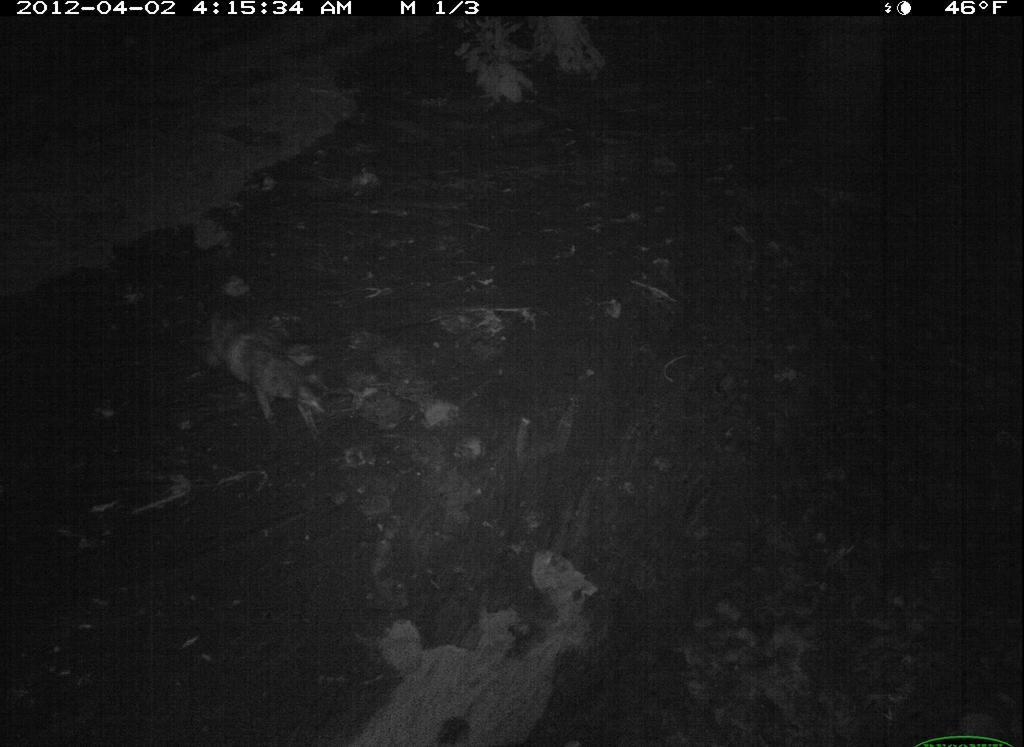cat: (189, 291, 345, 441)
